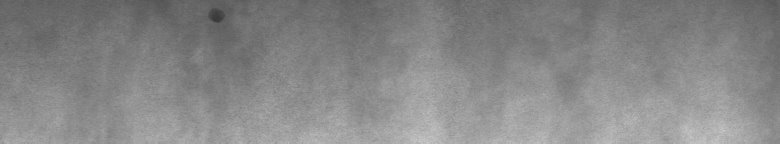fi: (205, 4, 225, 28)
